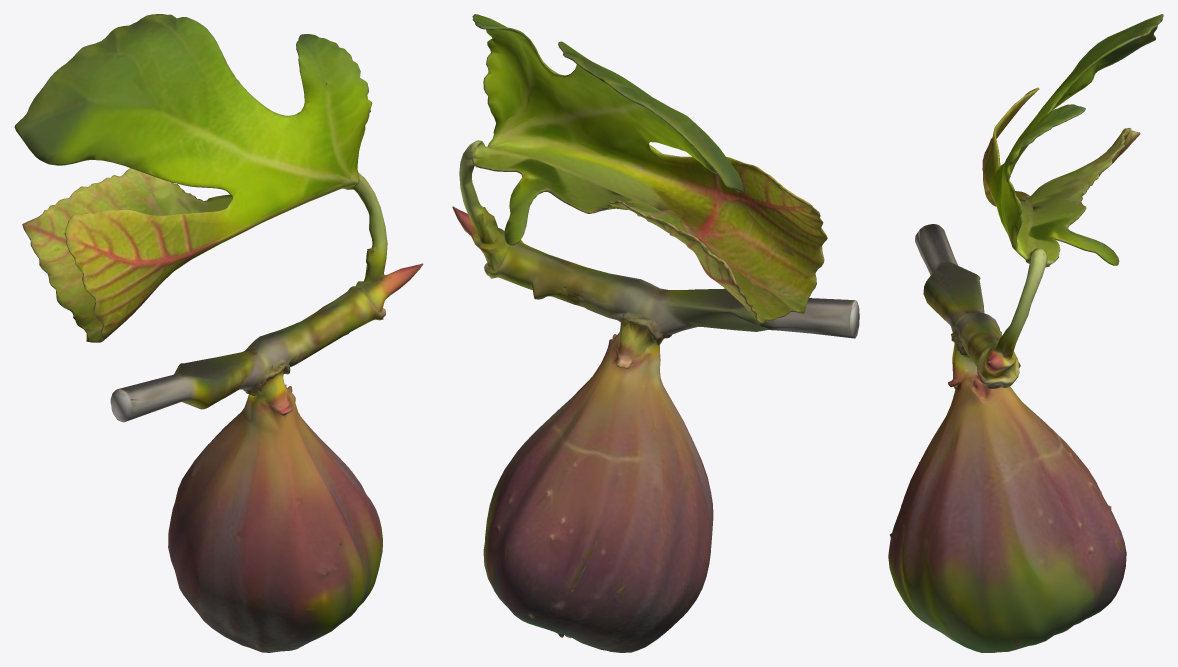
Rendered from Meshy_AI_Fig_0210153622_texture_decimated.obj.
3 views of the same model, side by side, from view 1: azimuth 30°, elevation 25°; view 2: azimuth 150°, elevation 25°; view 3: azimuth 270°, elevation 25° (orthographic). The views are drawn at different scales.
Parts seen in each view (by area): view 1: Meshy_AI_Fig_0210153622_texture; view 2: Meshy_AI_Fig_0210153622_texture; view 3: Meshy_AI_Fig_0210153622_texture.
Boxes of the visible parts, x1=… form: Meshy_AI_Fig_0210153622_texture: x1=14, y1=14, x2=423, y2=652; Meshy_AI_Fig_0210153622_texture: x1=452, y1=14, x2=859, y2=652; Meshy_AI_Fig_0210153622_texture: x1=888, y1=14, x2=1163, y2=652.
Size of the model in its own units: 1.22 by 2 by 0.8345.
